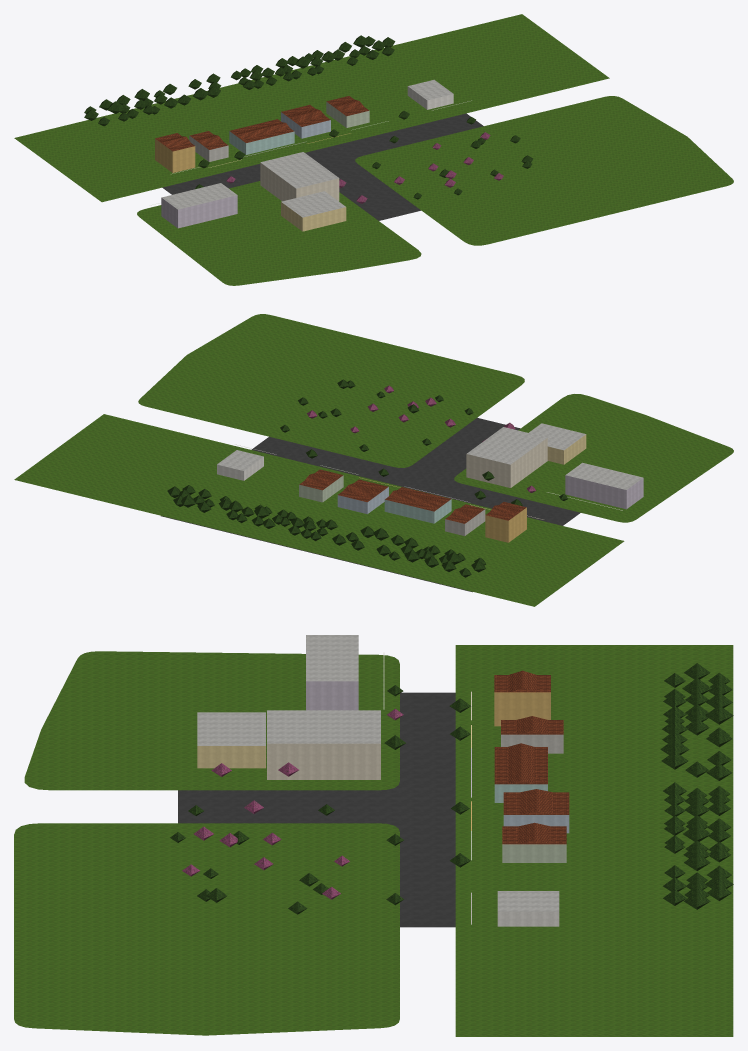
Rendered from cidade_S02_07_lod.gltf.
3 renders of one model, top to bottom at view 1: azimuth 30°, elevation 25°; view 2: azimuth 150°, elevation 25°; view 3: azimuth 270°, elevation 25°, orthographic. The views are drawn at different scales.
Visible parts, largest first — view 1: S02_07_Chao_LOD2, S02_07_Edificios_LOD1, S02_07_Vegetacao_LOD2, S02_07_Silhueta_LOD2; view 2: S02_07_Chao_LOD2, S02_07_Edificios_LOD1, S02_07_Vegetacao_LOD2, S02_07_Silhueta_LOD2; view 3: S02_07_Chao_LOD2, S02_07_Edificios_LOD1, S02_07_Vegetacao_LOD2, S02_07_Silhueta_LOD2.
Part boxes in pixels (x1,y1,x2,y2): S02_07_Chao_LOD2: (14, 14, 733, 285); S02_07_Edificios_LOD1: (149, 79, 471, 231); S02_07_Vegetacao_LOD2: (84, 35, 533, 203); S02_07_Silhueta_LOD2: (155, 96, 369, 172); S02_07_Chao_LOD2: (14, 314, 733, 606); S02_07_Edificios_LOD1: (217, 423, 643, 542); S02_07_Vegetacao_LOD2: (167, 379, 568, 577); S02_07_Silhueta_LOD2: (299, 469, 526, 541); S02_07_Chao_LOD2: (14, 645, 733, 1036); S02_07_Edificios_LOD1: (197, 635, 569, 926); S02_07_Vegetacao_LOD2: (170, 663, 733, 914); S02_07_Silhueta_LOD2: (494, 675, 569, 862).
Bounding box in the file's own units: 167 × 7.82 × 130.
Materials: 15 (15 with a texture image).
